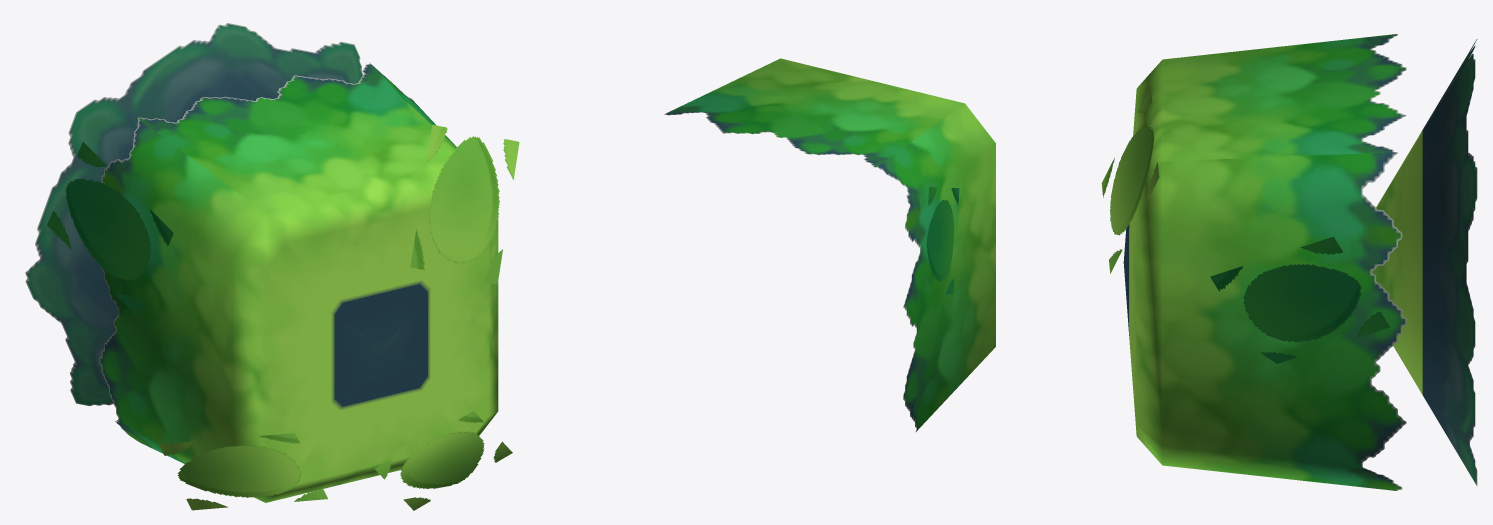
File: breakable.glb
The picture shows the model from 3 angles, left to right: view 1: azimuth 30°, elevation 25°; view 2: azimuth 150°, elevation 25°; view 3: azimuth 270°, elevation 25°; orthographic projection. The views are drawn at different scales.
Parts seen in each view (by area): view 1: outershell.breakable-Mesh[0], outershell.breakable-Mesh[1], outershell.breakable-Mesh[3], outershell.breakable-Mesh[2]; view 2: outershell.breakable-Mesh[0], outershell.breakable-Mesh[2]; view 3: outershell.breakable-Mesh[0], outershell.breakable-Mesh[1], outershell.breakable-Mesh[2], outershell.breakable-Mesh[3].
Boxes of the visible parts, bbox=[...] form: outershell.breakable-Mesh[0]: bbox=[99, 62, 498, 502]; outershell.breakable-Mesh[1]: bbox=[25, 23, 362, 406]; outershell.breakable-Mesh[3]: bbox=[158, 124, 519, 510]; outershell.breakable-Mesh[2]: bbox=[47, 142, 173, 316]; outershell.breakable-Mesh[0]: bbox=[664, 58, 995, 432]; outershell.breakable-Mesh[2]: bbox=[923, 187, 959, 294]; outershell.breakable-Mesh[0]: bbox=[1123, 34, 1406, 490]; outershell.breakable-Mesh[1]: bbox=[1371, 39, 1477, 485]; outershell.breakable-Mesh[2]: bbox=[1210, 236, 1389, 363]; outershell.breakable-Mesh[3]: bbox=[1101, 86, 1159, 273].
Bounding box in the file's own units: 1.56 × 1.56 × 1.29.
3 materials, 3 textured.
